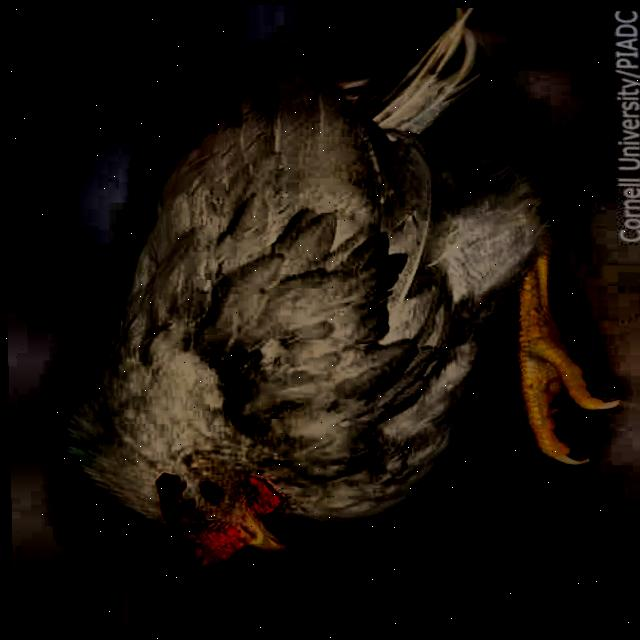Newcastle: (54, 48, 613, 571)
